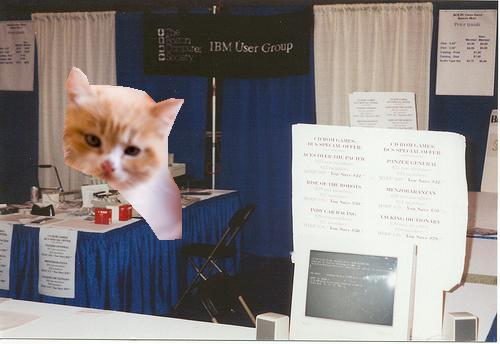tampered: (64, 67, 184, 240)
